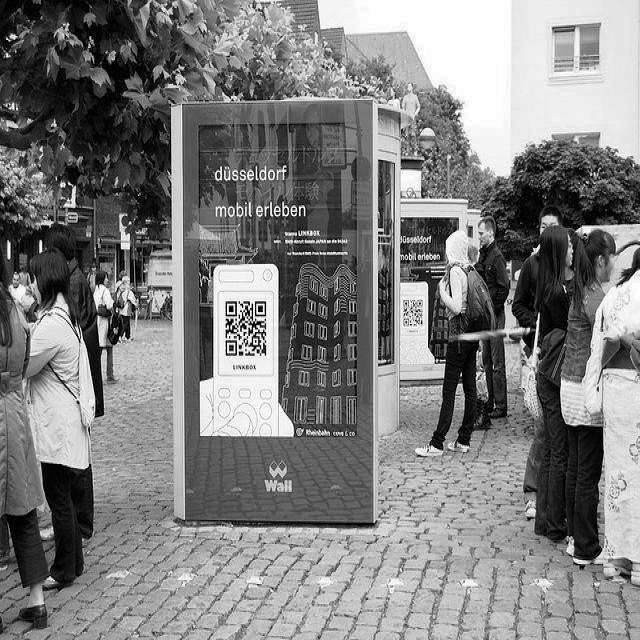qr_code: (225, 301, 265, 355), (403, 300, 422, 325)
